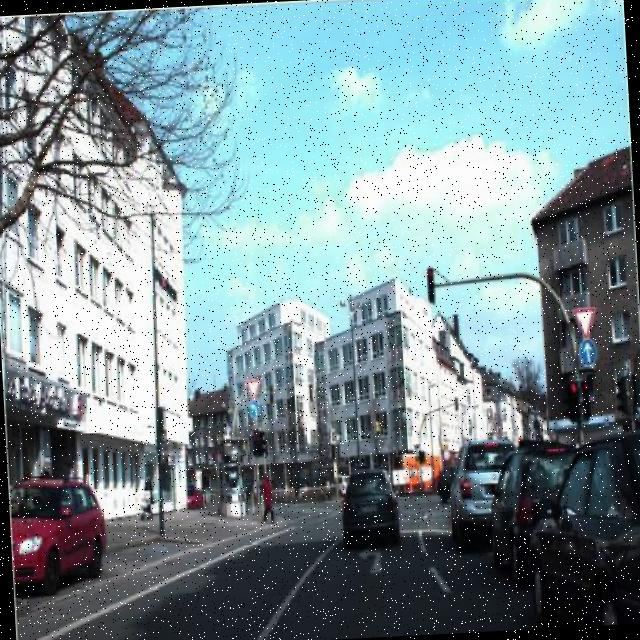Ustap pierwszenstwa: (571, 302, 599, 343), (240, 373, 264, 402)
